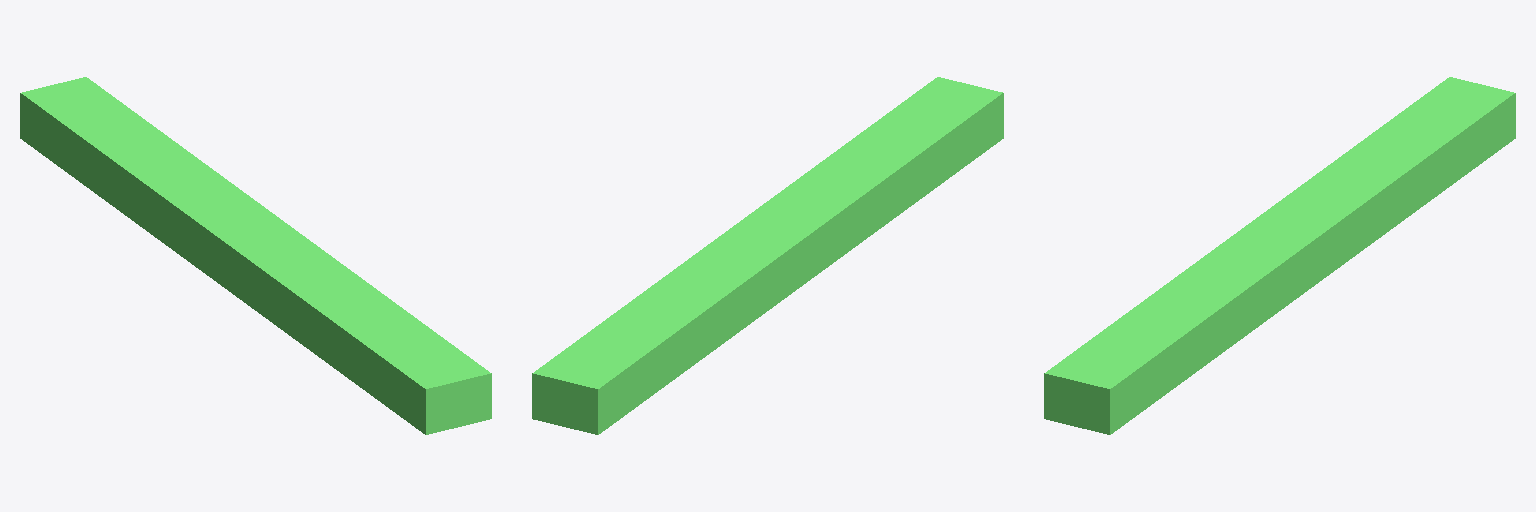
robot.urdf — hit_ball_with_queue_pocket0:
<?xml version="1.0"?>
<robot name="hit_ball_with_queue_pocket0">
    <link name="robot_base">
        <inertial>
            <origin rpy="0.000000 0.000000 0.000000" xyz="0.303998 0.149750 0.752999" />
            <inertia iyy="0.0010572118600667" iyz="1.5656470670435e-11" ixx="0.00078661598519292" izz="3.3149268293965e-07" ixz="-5.8811612722704e-12" ixy="-3.9376787719559e-14" />
            <mass value="0.067200005054474" />
        </inertial>
        <collision name="hit_ball_with_queue_pocket0">
            <origin xyz="0.303998 0.149750 0.752999" rpy="3.141567 3.141615 -3.141592" />
            <geometry>
                <box size="0.007500 0.080000 0.005000" />
            </geometry>
        </collision>
        <visual name="hit_ball_with_queue_pocket0">
            <origin xyz="0.303998 0.149750 0.752999" rpy="3.141567 3.141615 -3.141592" />
            <geometry>
                <box size="0.007500 0.080000 0.005000" />
            </geometry>
            <material name="robot_base_material">
                <color rgba="0.540000 1.000000 0.540000 1.0" />
            </material>
        </visual>
    </link>
</robot>

--- Facts derived from the render (not from the file) ---
3 views of the same robot in one strip: view 1: azimuth 30°, elevation 25°; view 2: azimuth 150°, elevation 25°; view 3: azimuth 330°, elevation 25° (orthographic).
Robot: hit_ball_with_queue_pocket0 — 1 links, 0 joints (none); root link robot_base; default pose: all joints at 0.
Visible links, largest first — view 1: robot_base; view 2: robot_base; view 3: robot_base.
Boxes of the visible links, bbox=[...] form: robot_base: bbox=[20, 77, 491, 434]; robot_base: bbox=[532, 77, 1003, 434]; robot_base: bbox=[1044, 77, 1515, 434].
Bounding box of the posed robot: 0.0075 × 0.08 × 0.005 m (x, y, z).
Geometry: primitives only (box / cylinder / sphere), no mesh files.
